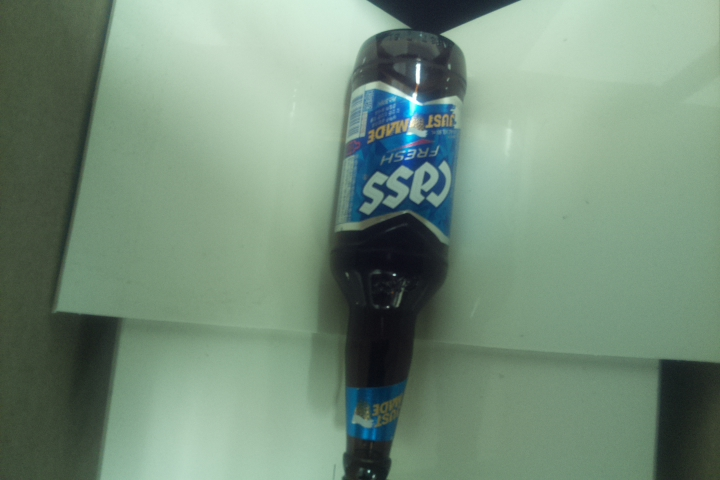makju: (326, 26, 469, 480)
